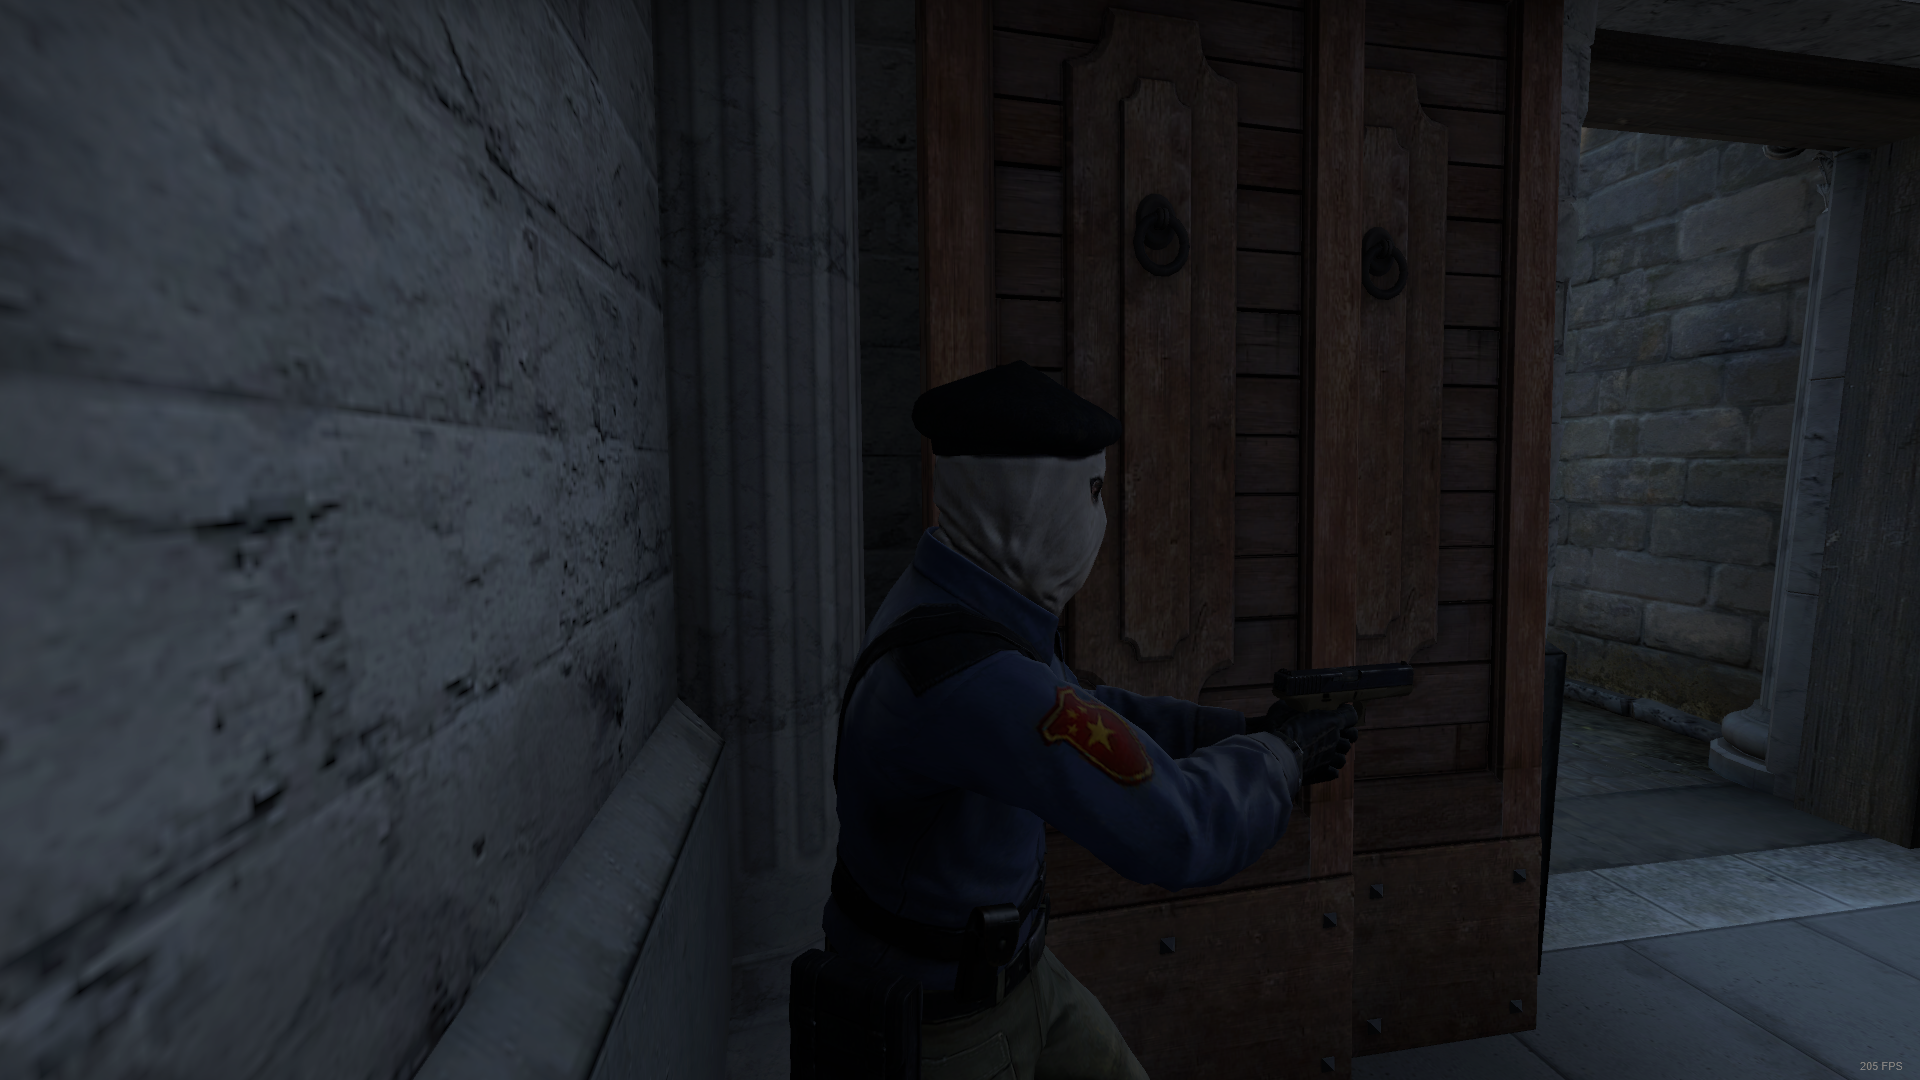t: (731, 336, 1367, 1080)
